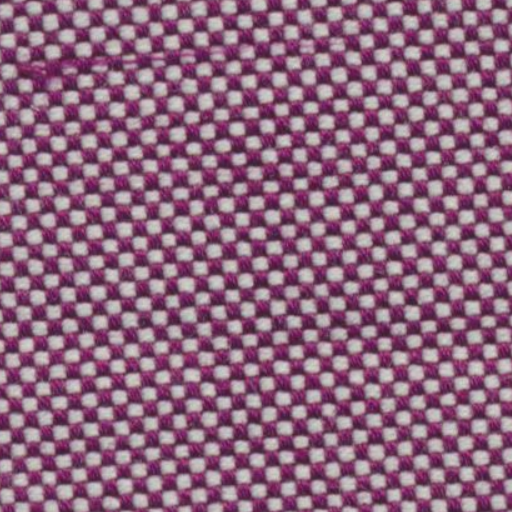DuanSha: (16, 42, 340, 78)
